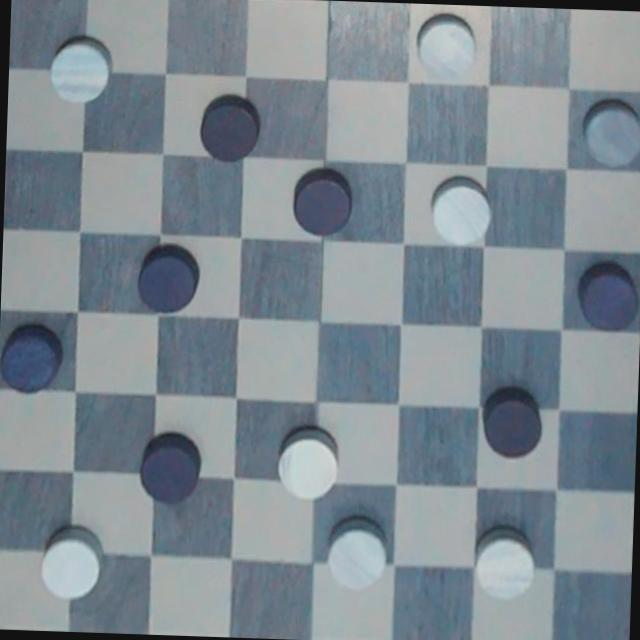BOARD: (0, 0, 640, 640)
black: (188, 88, 272, 172), (475, 381, 557, 465), (128, 426, 206, 510), (131, 234, 202, 324), (571, 256, 640, 344), (286, 169, 359, 246), (0, 320, 70, 399)
white: (36, 26, 122, 111), (419, 170, 498, 254), (320, 514, 400, 596), (33, 522, 111, 605), (467, 520, 542, 605), (404, 2, 480, 82), (272, 422, 346, 502), (577, 91, 640, 176)
